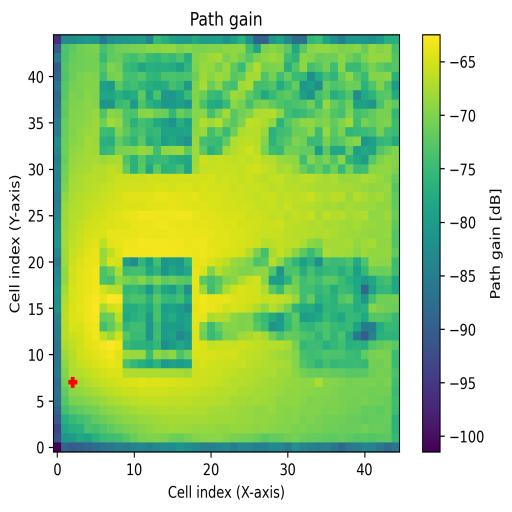Concrete: (299, 55, 369, 174)
Glass: (123, 53, 192, 172)
Metal: (300, 259, 370, 368)
Wood: (122, 257, 192, 371)
